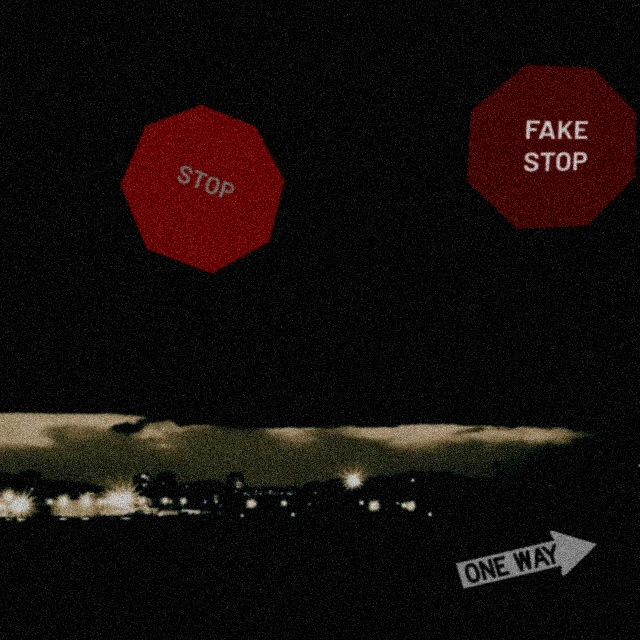FAKE_STOP: (465, 63, 638, 231)
ONE_WAY_ right: (442, 516, 615, 604)
STOP: (118, 103, 286, 276)
